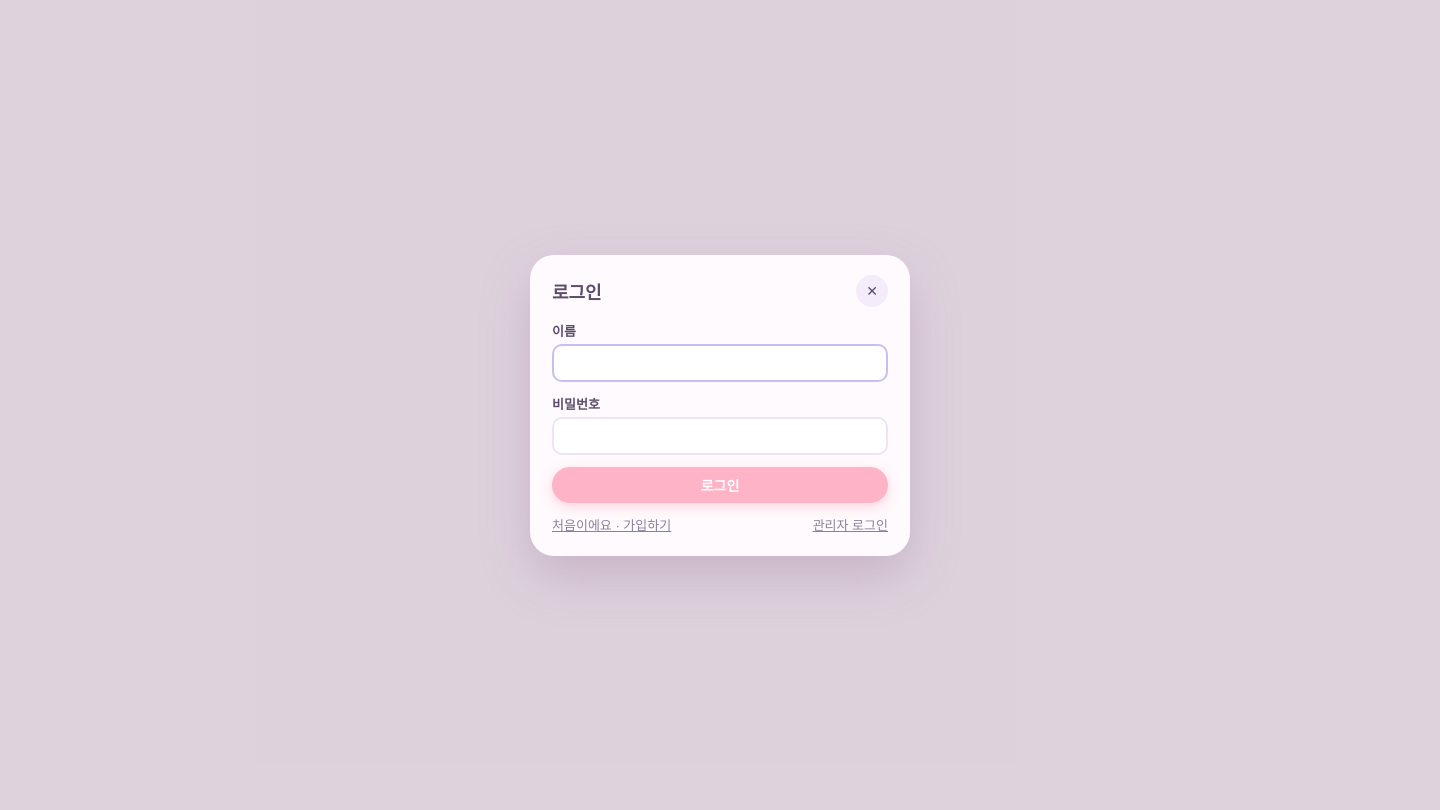
LoginForm › 틀리거나 너무 많이 시도하면 알려 준다
Type "철수" into the field labelled "이름" at coordinates (720, 362), box [552,344,888,382]
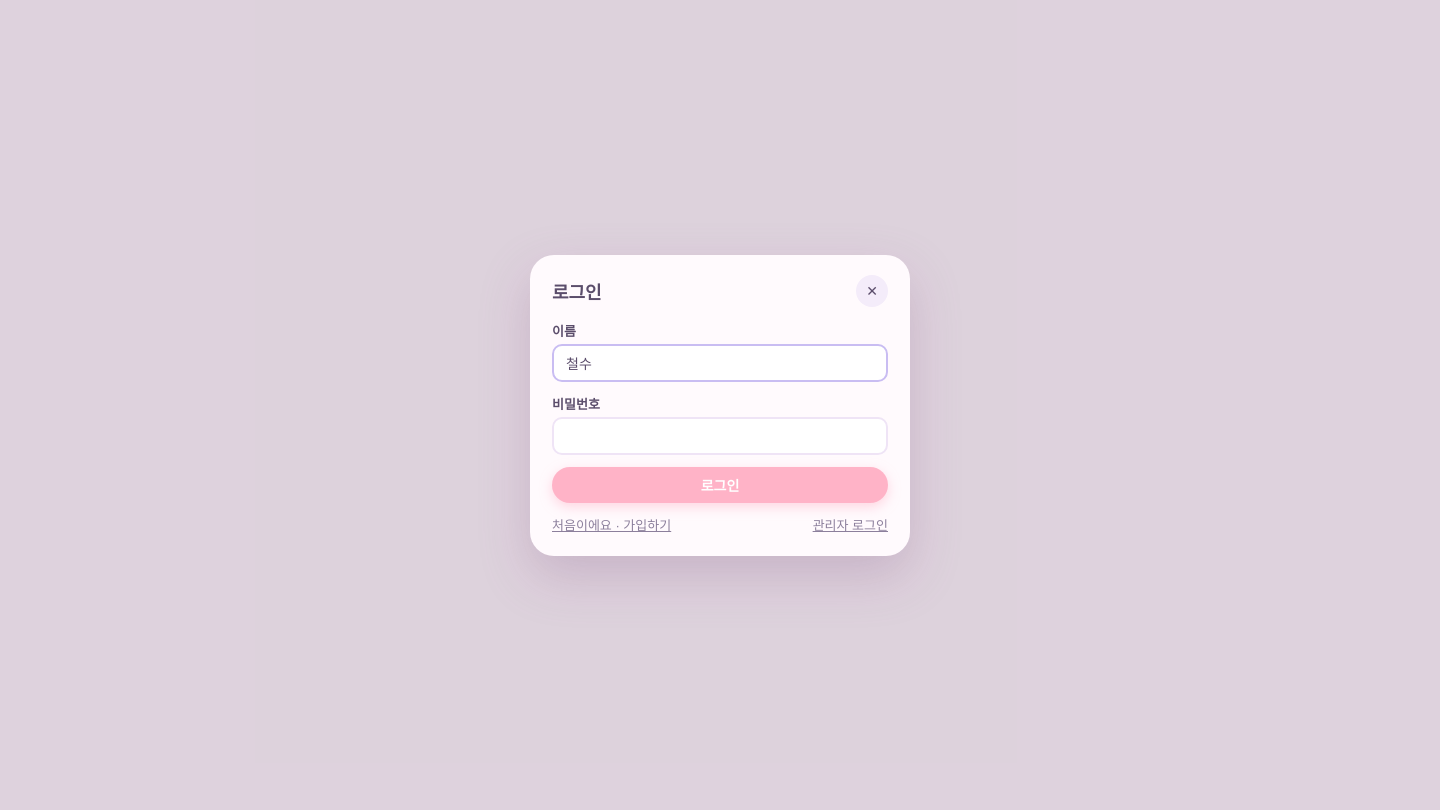
Type "wrong!" into the password field labelled "비밀번호" at coordinates (720, 436), box [552,416,888,454]
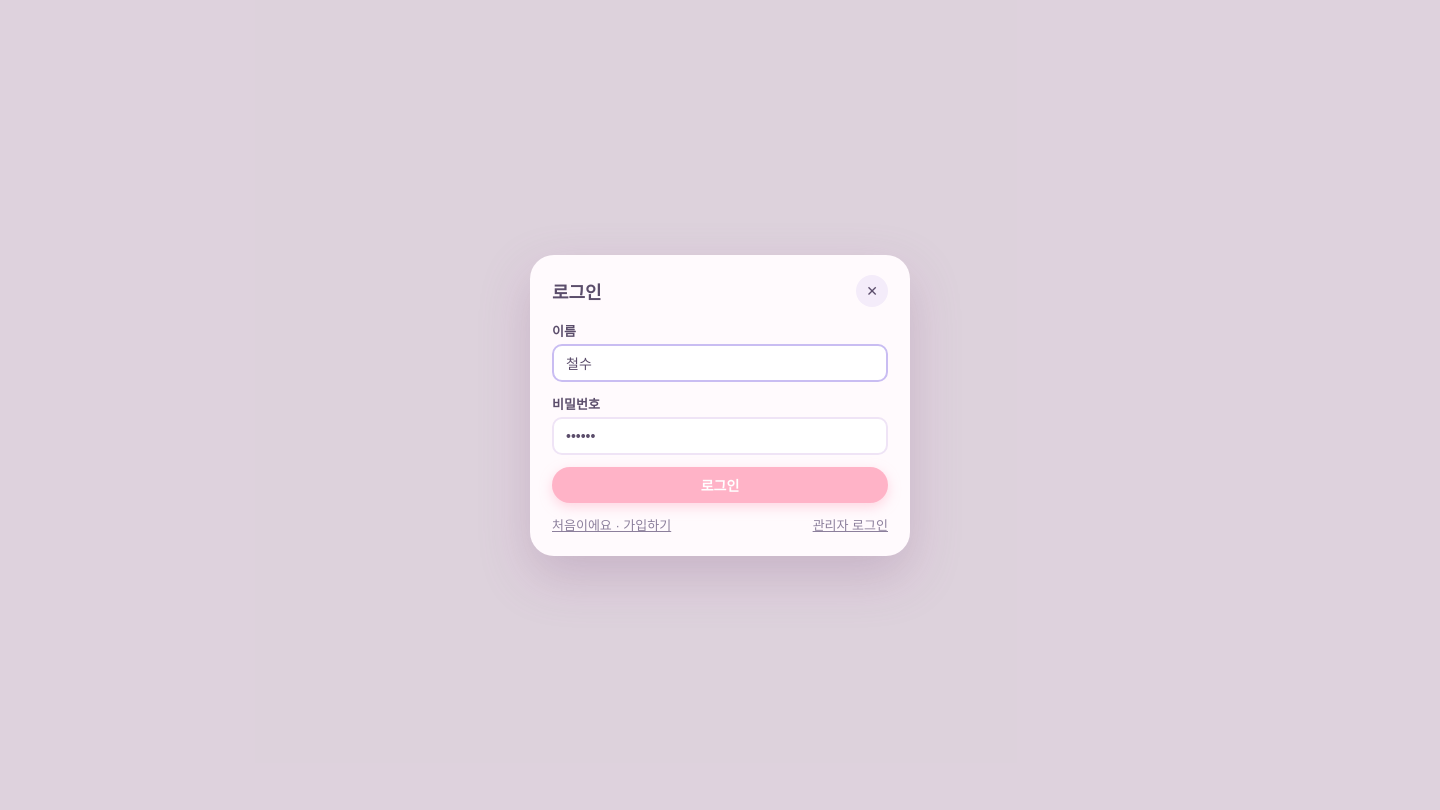
Click the button "로그인" at coordinates (720, 484), box [552,466,888,502]
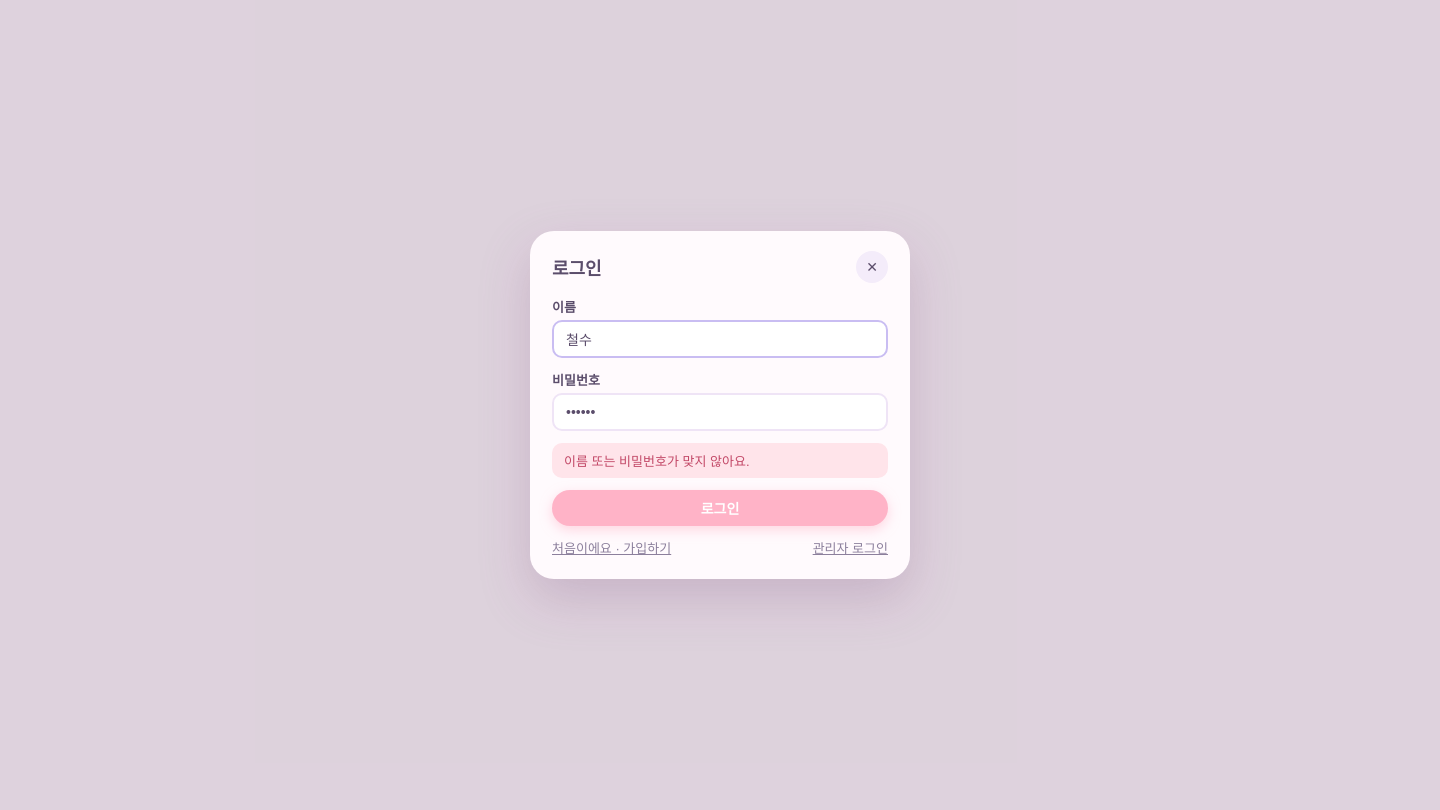
Expected: the message reads "이름 또는 비밀번호가 맞지 않아요.", [564,454,750,469]
Click the button "로그인" at coordinates (720, 508), box [552,490,888,526]
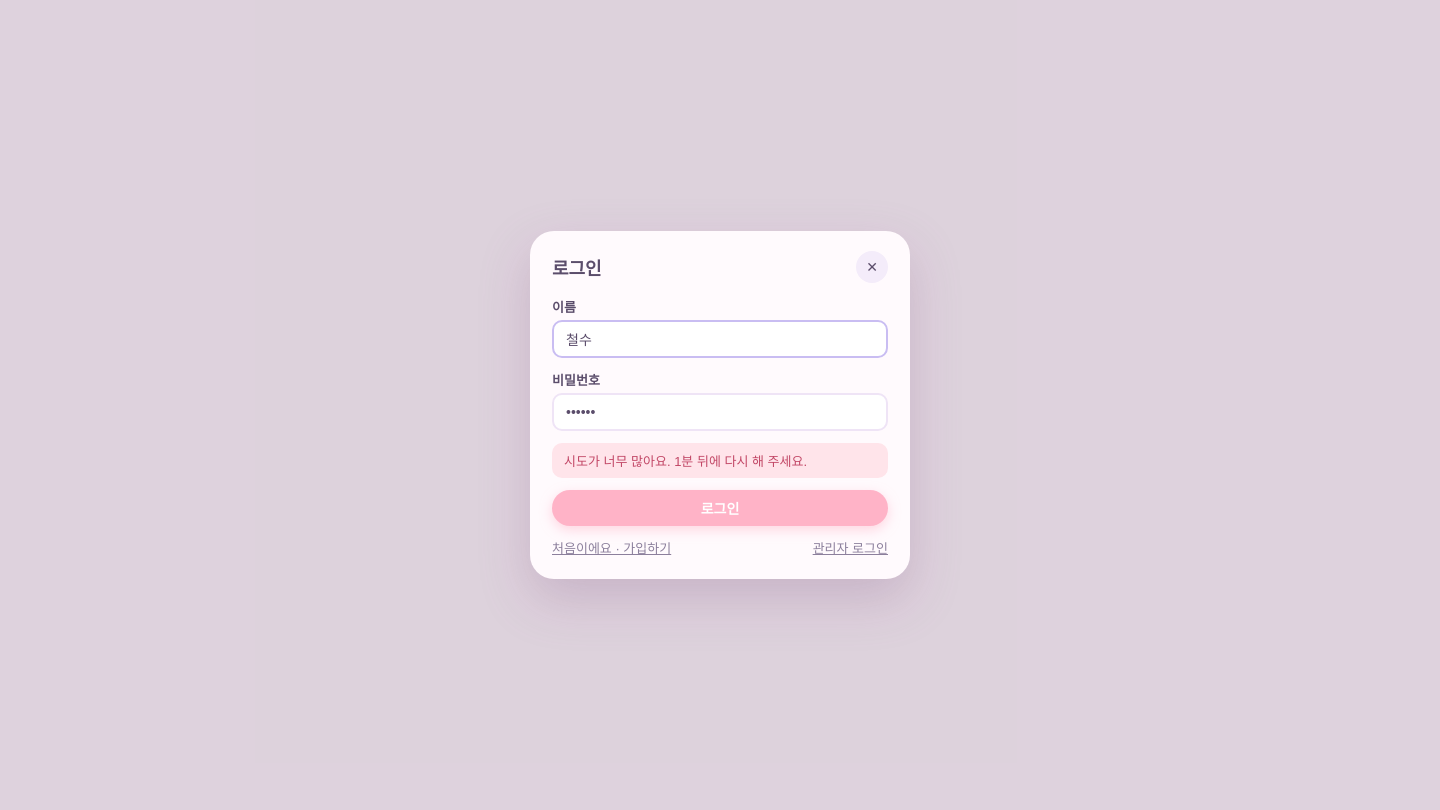
Expected: the message shows "1분 뒤", [564,454,807,469]
